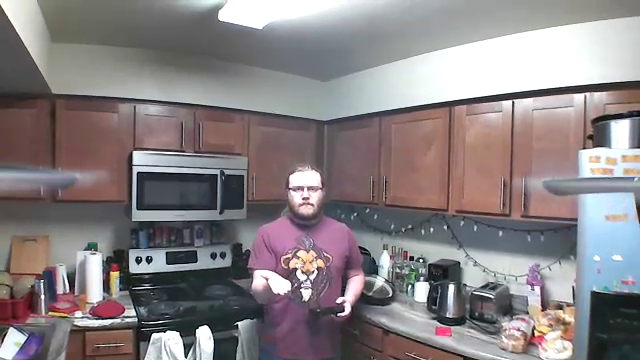land: (258, 269, 294, 297)
